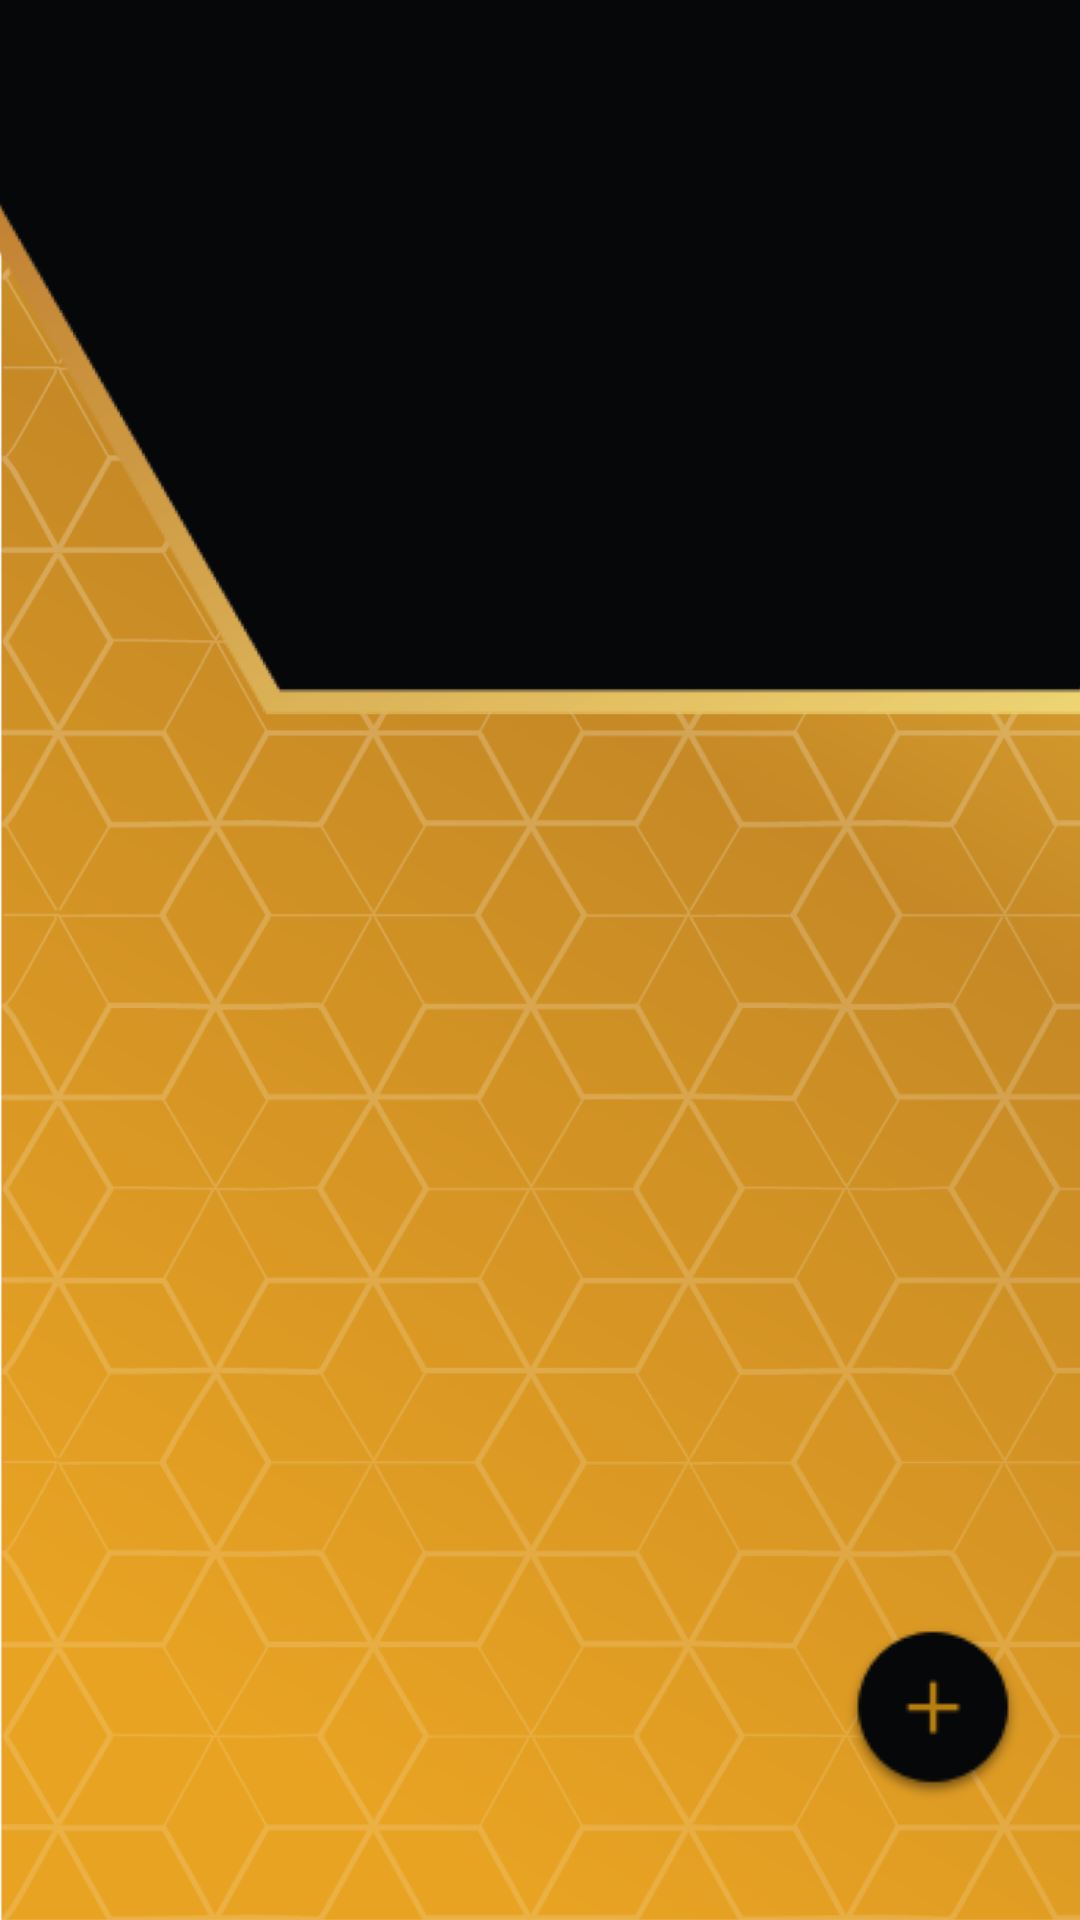

Icon bounding boxes for this 1080 x 1920 phone screenshot, format bbox=(x1, y1, x2, y2):
Add Question Button: bbox=(846, 1626, 1020, 1800)
